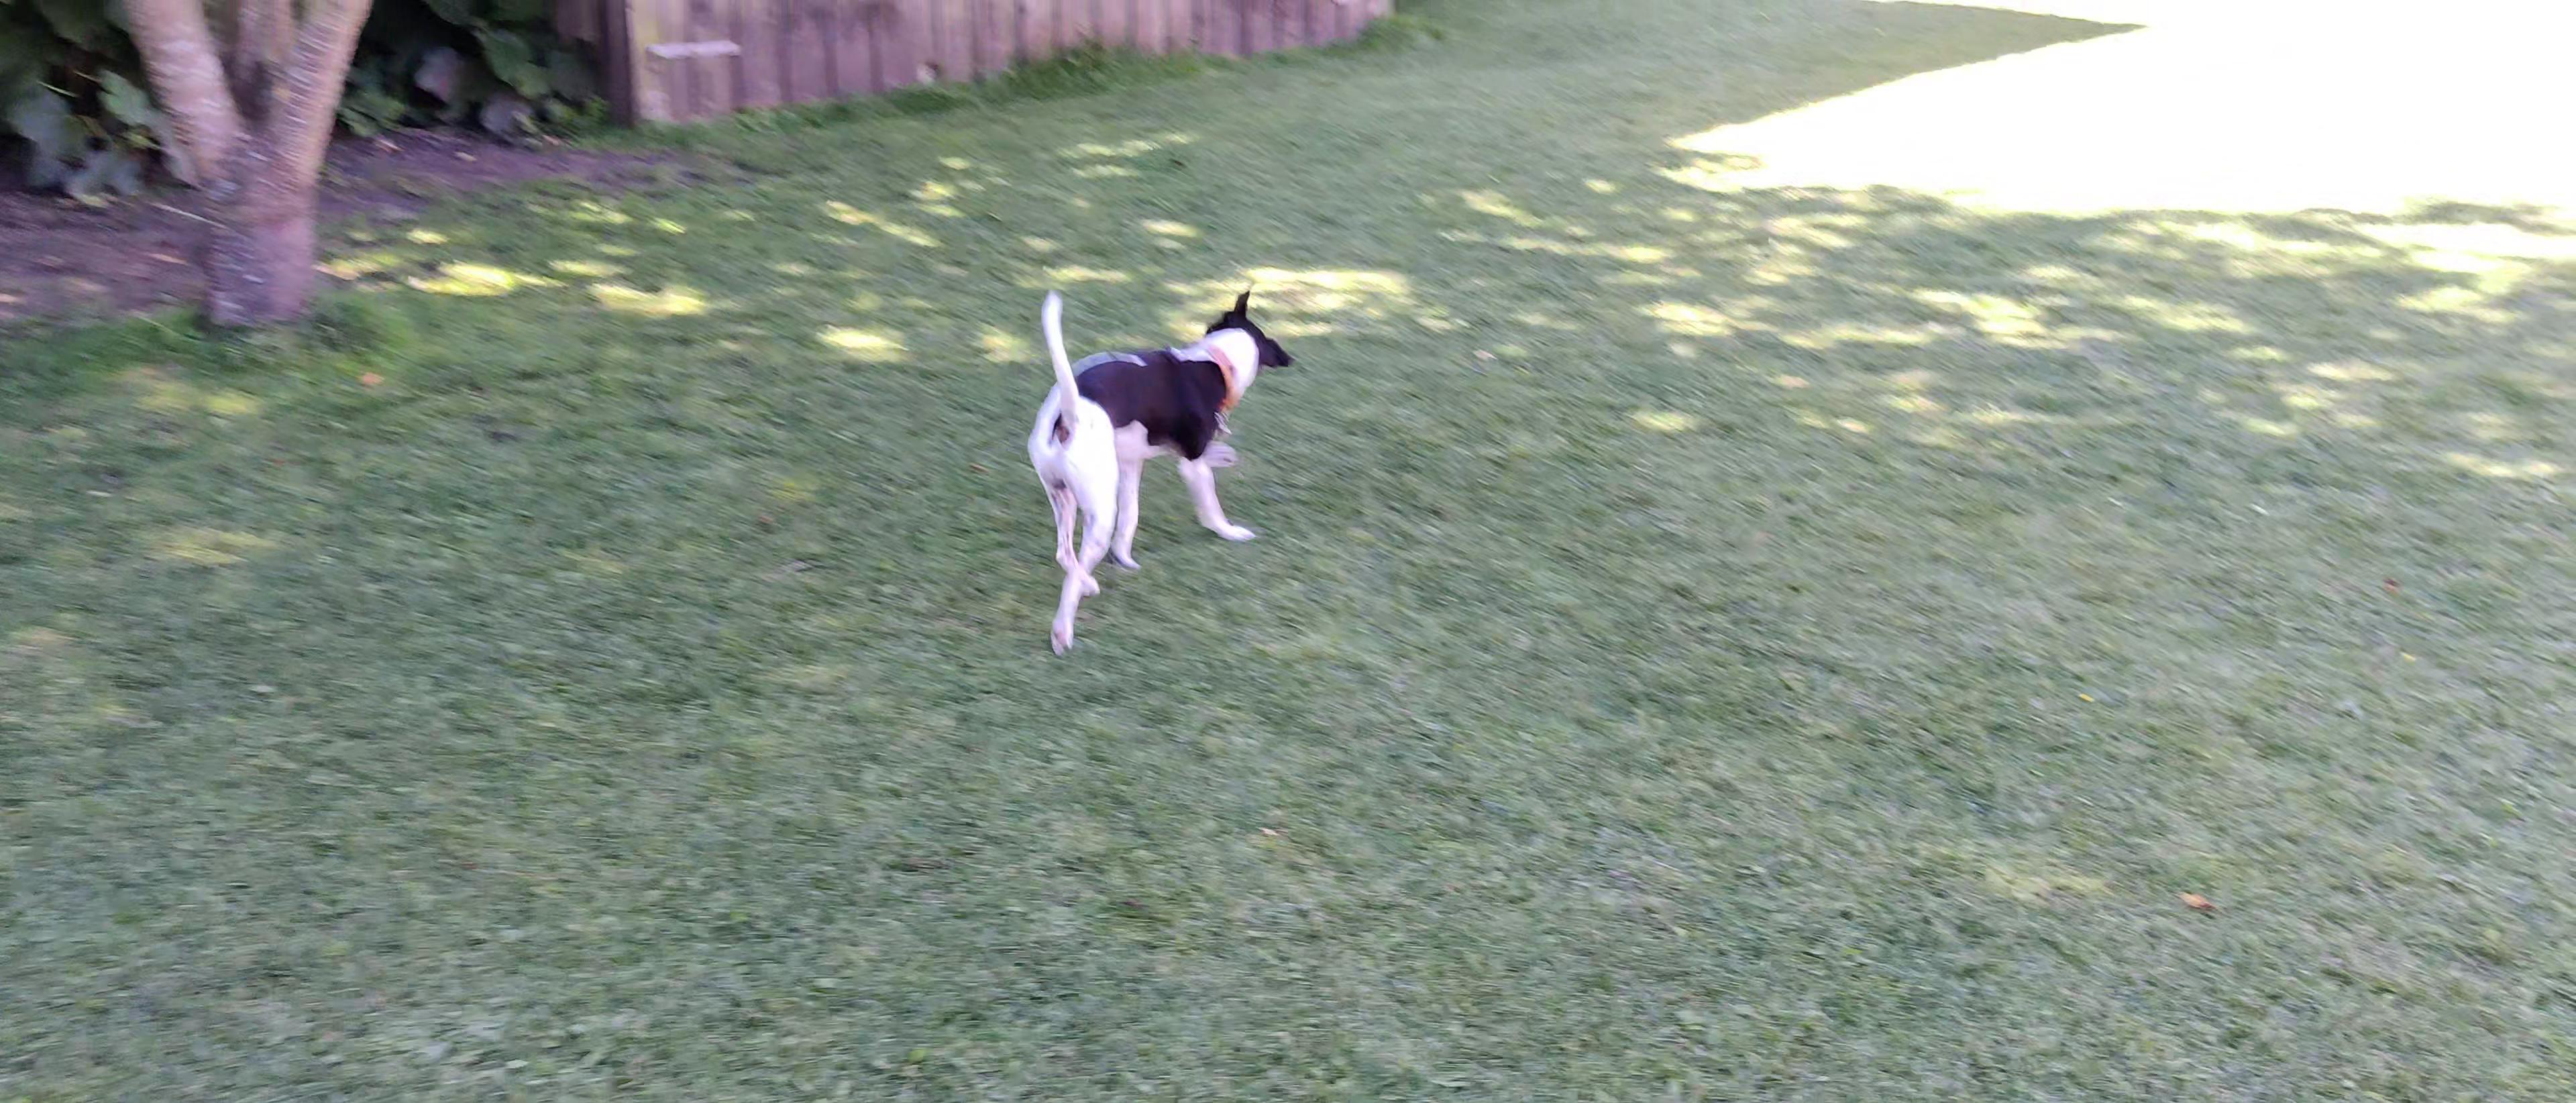Dog: (997, 278, 1299, 656)
